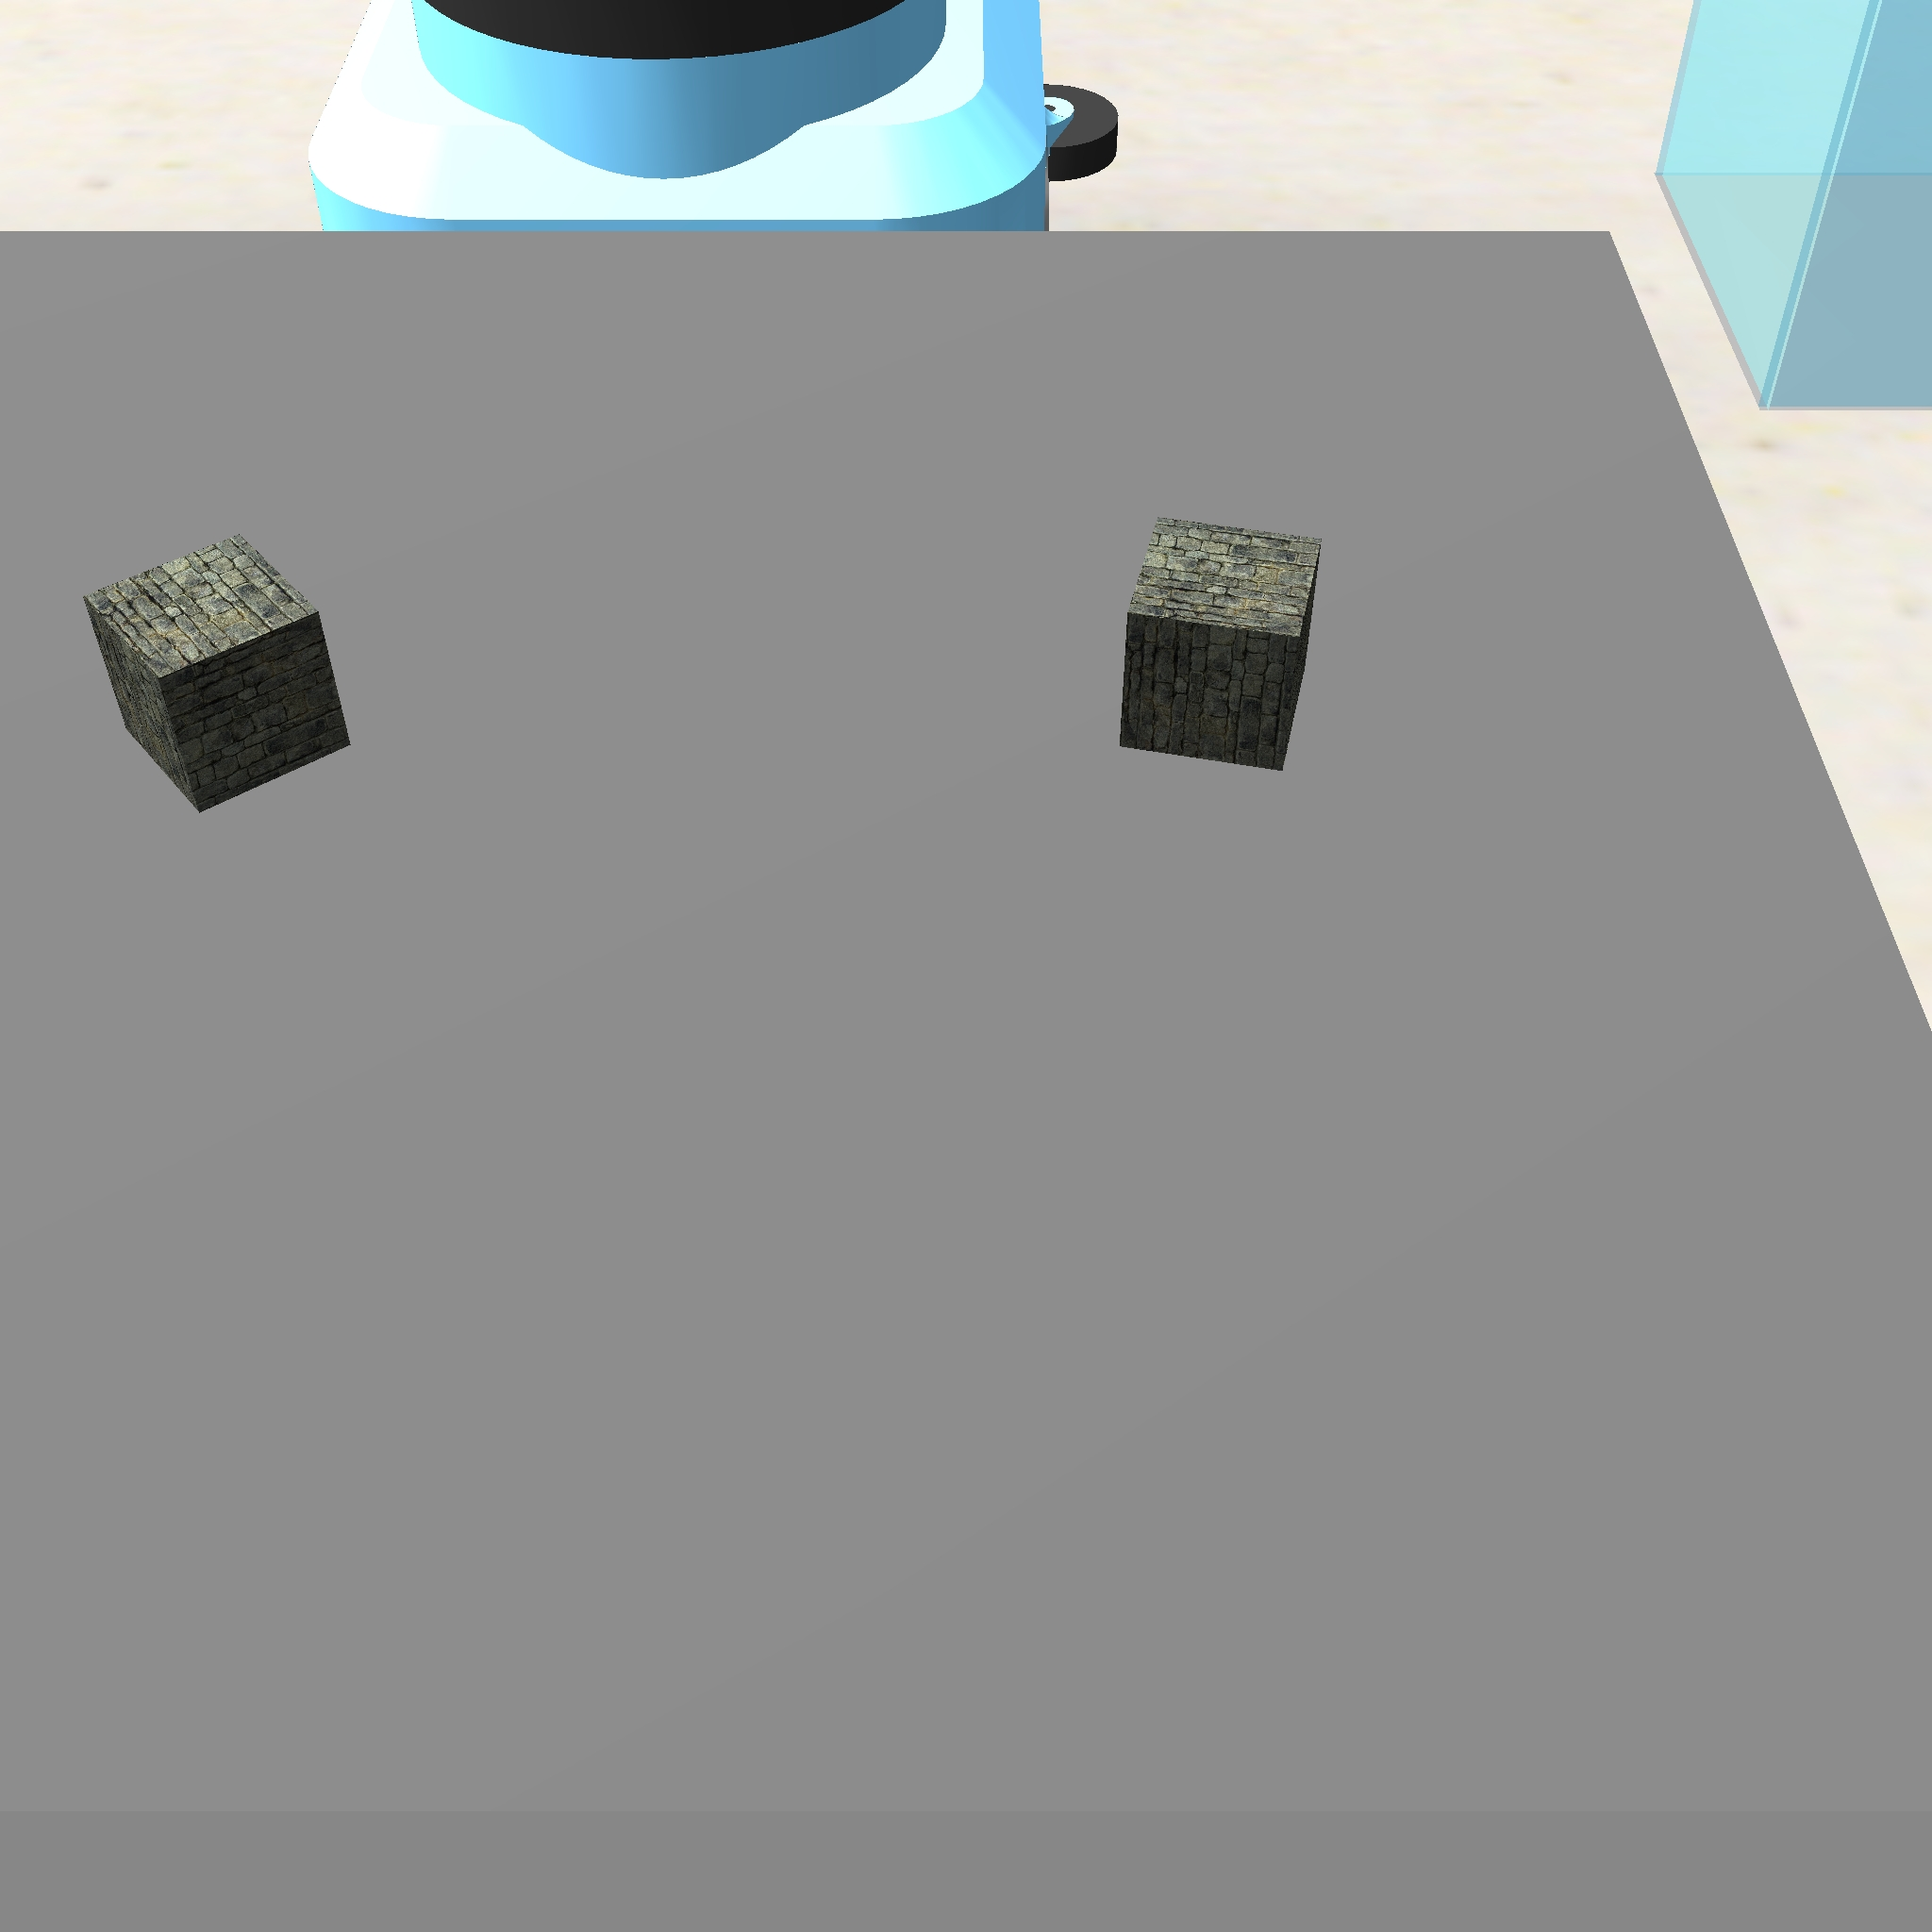cube: (74, 533, 366, 821), (1111, 508, 1336, 775)
